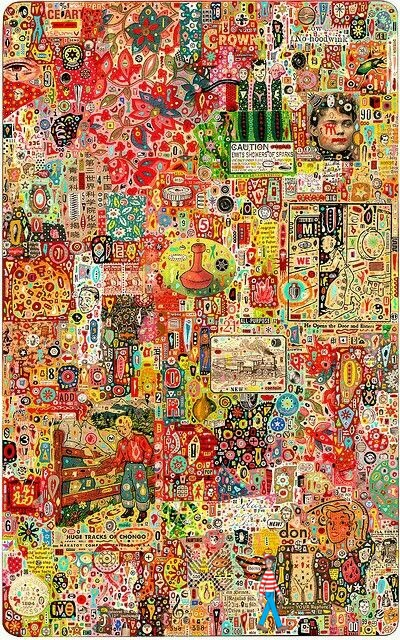waldo: (256, 552, 290, 632)
